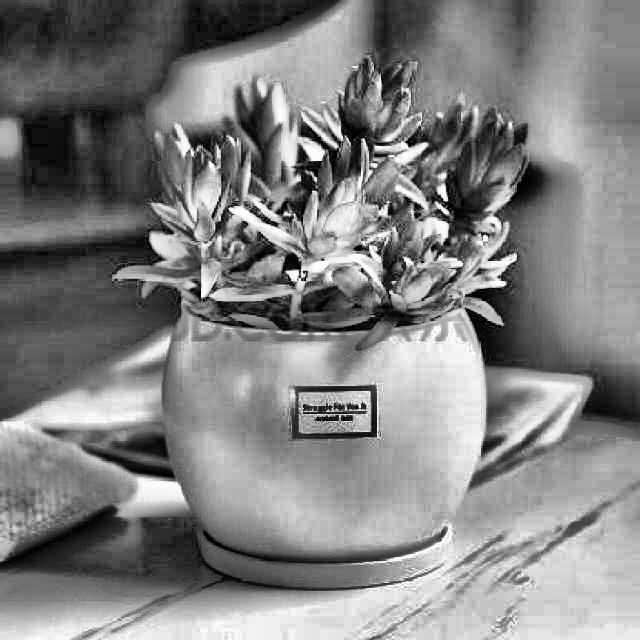plants: (163, 76, 486, 558)
